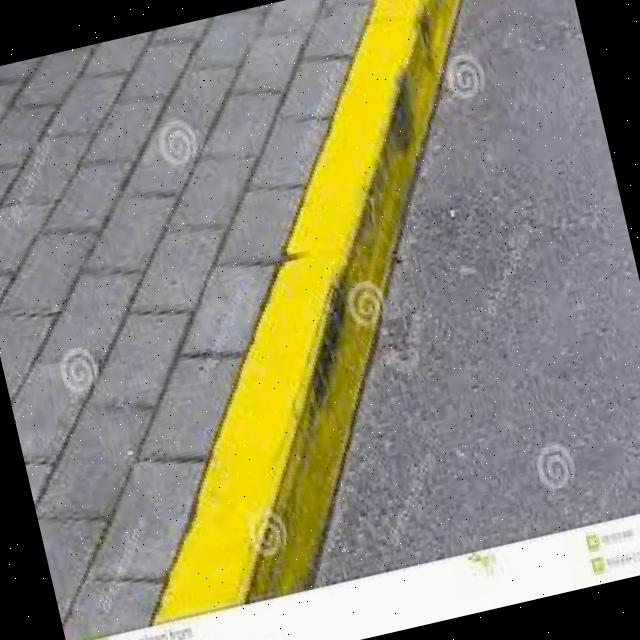curb: (155, 1, 462, 619)
